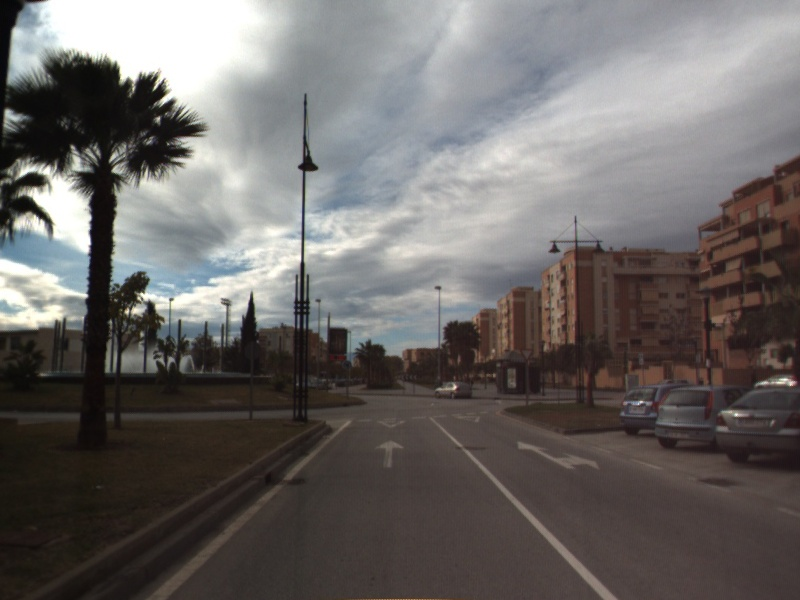STRAIGHT: (374, 438, 406, 470)
STRAIGHT_RIGHT: (516, 439, 602, 472)
